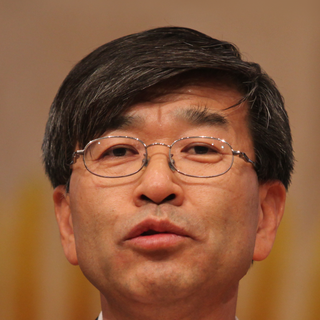eye: (181, 139, 226, 163), (97, 140, 142, 163)
